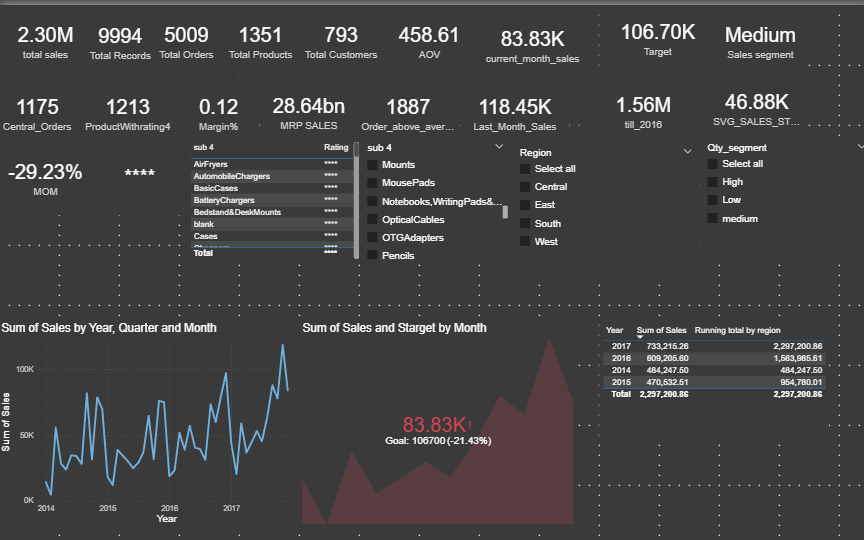

The page's visual inventory and layout, read from the dashboard file:
{"tool":"powerbi","page":{"name":"Page 1","canvas":[1400,1010],"ordinal":0},"visuals":[{"type":"card","fields":{"Values":["Orders.total sales"]},"box":[0,0,152.5,112.5],"z":0},{"type":"card","fields":{"Values":["Orders.Total Records"]},"box":[136.2,1.2,120,111.2],"z":1000},{"type":"card","fields":{"Values":["Orders.Total Orders"]},"box":[246.2,0,111.2,111.2],"z":2000},{"type":"card","fields":{"Values":["amazon (1)-5 (2).Total Products"]},"box":[357.3,0,124.7,111.3],"z":3000},{"type":"card","fields":{"Values":["Orders.Total Customers"]},"box":[482,0,134.7,112],"z":4000},{"type":"card","fields":{"Values":["Orders.Central_Orders"]},"box":[0,112.6,125.6,118.5],"z":5000},{"type":"card","fields":{"Values":["amazon (1)-5 (2).ProductWithrating5"]},"box":[125.6,112.6,163.6,118.5],"z":6000},{"type":"card","fields":{"Values":["Orders.Margin%"]},"box":[288,112.6,130.4,118.5],"z":7000},{"type":"card","fields":{"Values":["Orders.MRP SALES"]},"box":[419.6,110.2,155.3,120.9],"z":8000},{"type":"card","fields":{"Values":["Orders.Order_above_average"]},"box":[574.8,112.6,164.7,118.5],"z":9000},{"type":"card","fields":{"Values":["Orders.current_month_sales"]},"box":[757.5,0,195,126.2],"z":10000},{"type":"card","fields":{"Values":["Orders.AOV"]},"box":[616.3,0,149.3,112.6],"z":11000},{"type":"lineChart","fields":{"Category":["Orders.Order Date.Variation.Date Hierarchy.Year","Orders.Order Date.Variation.Date Hierarchy.Quarter","Orders.Order Date.Variation.Date Hierarchy.Month","Orders.Order Date.Variation.Date Hierarchy.Day"],"Y":["Sum(Orders.Sales)"]},"box":[0,505.7,482.9,330],"z":12000},{"type":"card","fields":{"Values":["Orders.Last_Month_Sales"]},"box":[739.6,112.6,174.2,118.5],"z":13000},{"type":"card","fields":{"Values":["Orders.Target"]},"box":[961.2,0,187.5,103.8],"z":14000},{"type":"kpi","fields":{"Goal":["Orders.Starget"],"Indicator":["Sum(Orders.Sales)"],"TrendLine":["Orders.Order Date.Variation.Date Hierarchy.Month"]},"box":[482.9,505.7,444.3,330],"z":15000},{"type":"card","fields":{"Values":["Orders.MOM"]},"box":[0,213.8,152.5,122.5],"z":16000},{"type":"card","fields":{"Values":["Orders.till_2016"]},"box":[930,104.3,205.7,127.1],"z":17000},{"type":"tableEx","fields":{"Values":["Orders.Order Date.Variation.Date Hierarchy.Year","Sum(Orders.Sales)","Orders.Running total by region"]},"box":[961.4,505.7,367.1,194.3],"z":18000},{"type":"card","fields":{"Values":["Orders.Ratng"]},"box":[152.5,211.2,150,125],"z":19000},{"type":"tableEx","fields":{"Values":["amazon (1)-5 (2).sub 4","Orders.Rating"]},"box":[302.5,213.8,281.2,197.5],"z":20000},{"type":"slicer","fields":{"Values":["amazon (1)-5 (2).sub 4"]},"box":[578.8,213.8,242.5,197.5],"z":21000},{"type":"card","fields":{"Values":["amazon (1)-5 (2).Sales segment"]},"box":[1148.6,0,144.3,112.9],"z":22000},{"type":"slicer","fields":{"Values":["Orders.Region"]},"box":[821.4,222.9,300,212.9],"z":23000},{"type":"slicer","fields":{"Values":["Orders.Qty_segment"]},"box":[1121.4,214.3,278.6,200],"z":24000},{"type":"card","fields":{"Values":["Orders.SVG_SALES_STATE"]},"box":[1135.7,112.9,157.1,101.4],"z":25000}]}

Visuals, with their boxes on the page's 1400x1010 design canvas (x1, y1, x2, y2). These are canvas units, not pixel positions in the 864x540 screenshot, which may show the page scaled, cropped or inside an application window:
card - Orders.total sales: [x1=0, y1=0, x2=152, y2=112]
card - Orders.Total Records: [x1=136, y1=1, x2=256, y2=112]
card - Orders.Total Orders: [x1=246, y1=0, x2=357, y2=111]
card - amazon (1)-5 (2).Total Products: [x1=357, y1=0, x2=482, y2=111]
card - Orders.Total Customers: [x1=482, y1=0, x2=617, y2=112]
card - Orders.Central_Orders: [x1=0, y1=113, x2=126, y2=231]
card - amazon (1)-5 (2).ProductWithrating5: [x1=126, y1=113, x2=289, y2=231]
card - Orders.Margin%: [x1=288, y1=113, x2=418, y2=231]
card - Orders.MRP SALES: [x1=420, y1=110, x2=575, y2=231]
card - Orders.Order_above_average: [x1=575, y1=113, x2=740, y2=231]
card - Orders.current_month_sales: [x1=758, y1=0, x2=952, y2=126]
card - Orders.AOV: [x1=616, y1=0, x2=766, y2=113]
lineChart - Orders.Order Date.Variation.Date Hierarchy.Year x Orders.Order Date.Variation.Date Hierarchy.Quarter: [x1=0, y1=506, x2=483, y2=836]
card - Orders.Last_Month_Sales: [x1=740, y1=113, x2=914, y2=231]
card - Orders.Target: [x1=961, y1=0, x2=1149, y2=104]
kpi - Orders.Starget x Sum(Orders.Sales): [x1=483, y1=506, x2=927, y2=836]
card - Orders.MOM: [x1=0, y1=214, x2=152, y2=336]
card - Orders.till_2016: [x1=930, y1=104, x2=1136, y2=231]
tableEx - Orders.Order Date.Variation.Date Hierarchy.Year x Sum(Orders.Sales): [x1=961, y1=506, x2=1328, y2=700]
card - Orders.Ratng: [x1=152, y1=211, x2=302, y2=336]
tableEx - amazon (1)-5 (2).sub 4 x Orders.Rating: [x1=302, y1=214, x2=584, y2=411]
slicer - amazon (1)-5 (2).sub 4: [x1=579, y1=214, x2=821, y2=411]
card - amazon (1)-5 (2).Sales segment: [x1=1149, y1=0, x2=1293, y2=113]
slicer - Orders.Region: [x1=821, y1=223, x2=1121, y2=436]
slicer - Orders.Qty_segment: [x1=1121, y1=214, x2=1400, y2=414]
card - Orders.SVG_SALES_STATE: [x1=1136, y1=113, x2=1293, y2=214]
